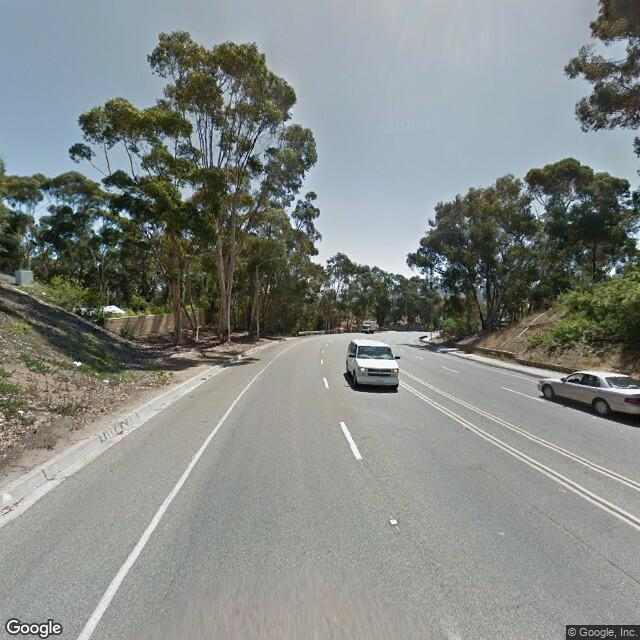litter: (14, 409, 28, 417), (72, 359, 84, 365), (101, 377, 110, 383)
